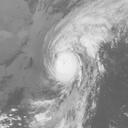cyclone: (42, 30, 93, 92)
